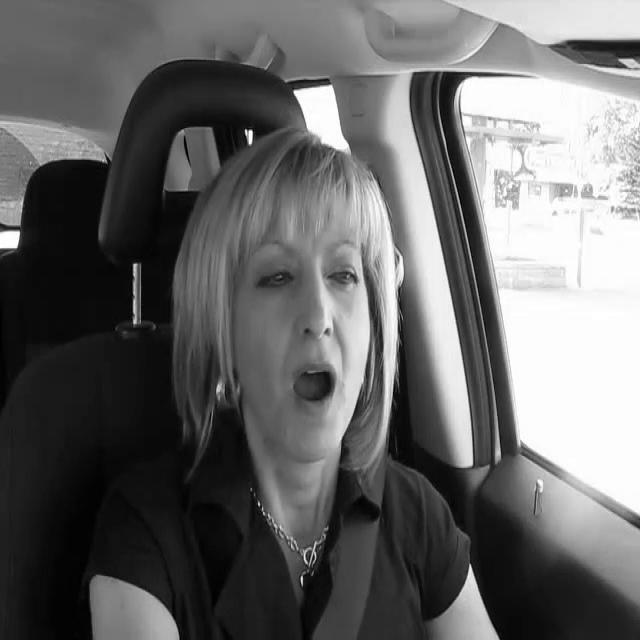yawn: (8, 5, 622, 640)
